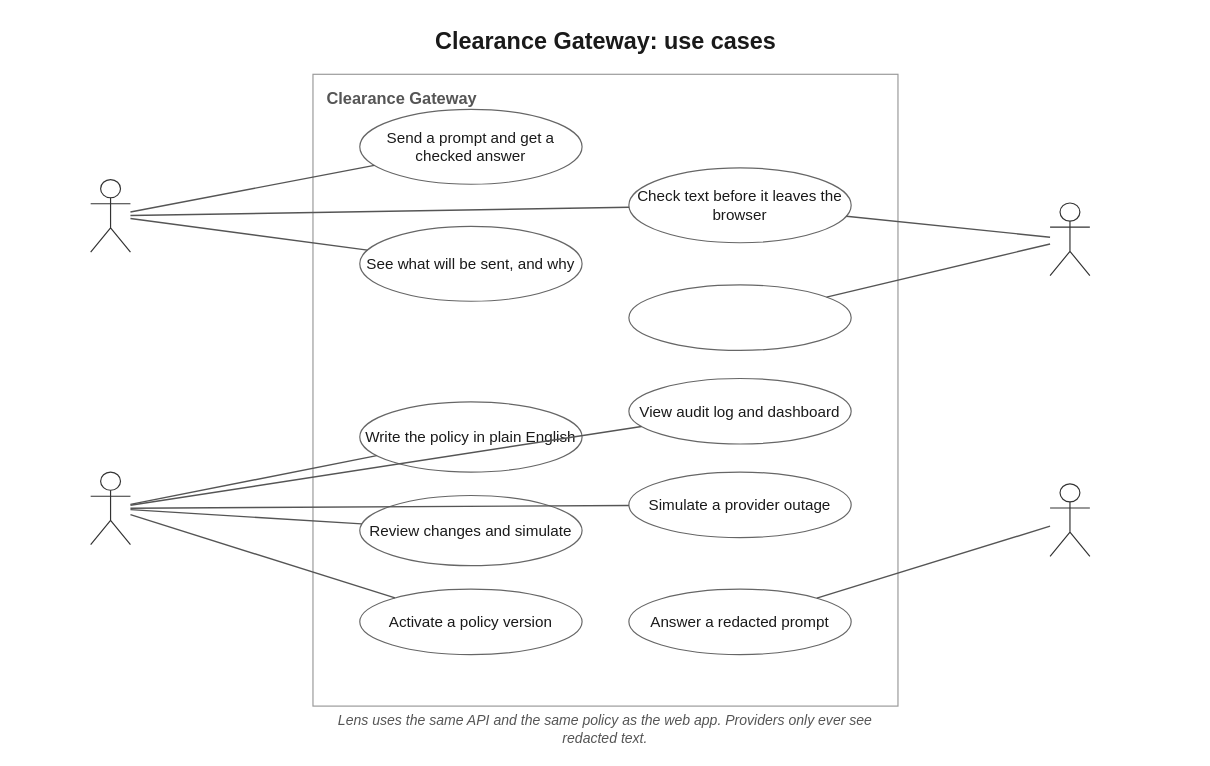
Some shapes in this 1210 by 766 pixel diagram are drawn without their labels. Here are the shapes that lost their labels. From the top down, the centre of each, then its label:
At (110,215): "Employee".
At (1069,239): "Lens extension".
At (739,317): "Protect a chosen site".
At (110,508): "Admin".
At (1069,519): "AI provider".
